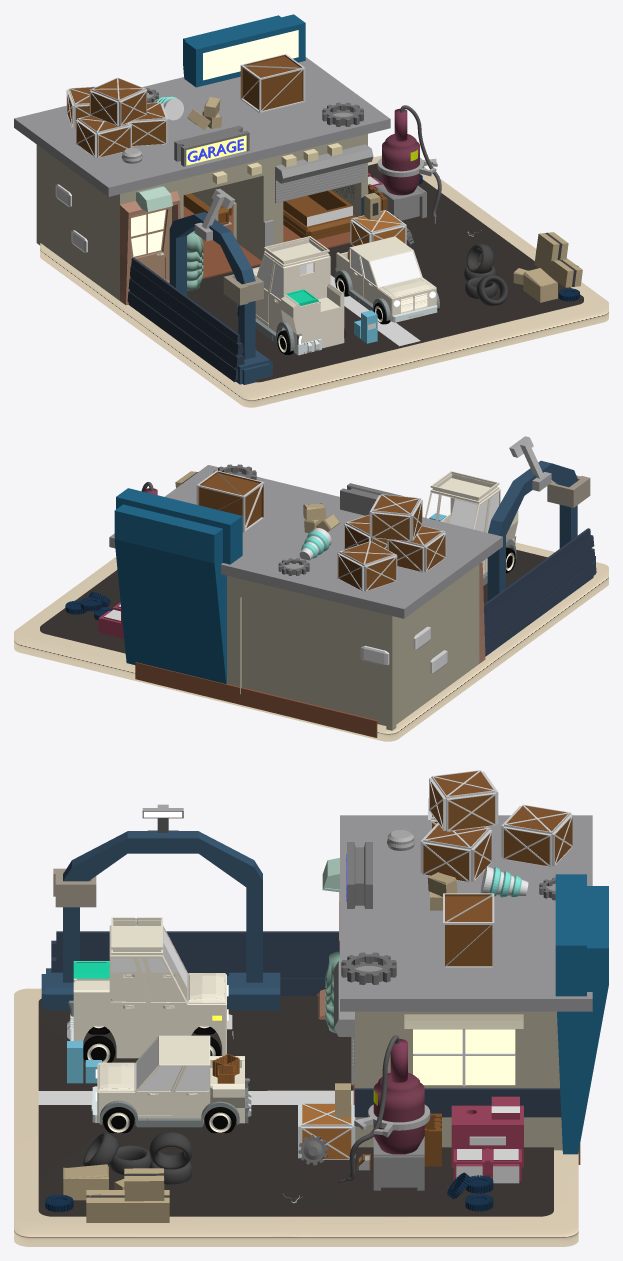
3 views of the same model, one above another, from view 1: azimuth 30°, elevation 25°; view 2: azimuth 150°, elevation 25°; view 3: azimuth 270°, elevation 25° (orthographic). The views are drawn at different scales.
Visible parts, largest first — view 1: Cube.035, Cube.033, Cube.034, Cube.032, Cube.081, Cube.015, Cube.052, Cube, Cube.072, Cube.094, Cube.057, Cube.086 (+33 smaller); view 2: Cube.034, Cube.072, Cube.035, Cube.032, Cube.081, Cube.056, Cube.052, Cube.033, Cube.086, Cube.057, Cube.089, Cube.091 (+17 smaller); view 3: Cube.033, Cube.035, Cube.032, Cube.015, Cube.072, Cube.034, Cube.052, Cube.081, Cube, Cube.094, Cube.059, Cube.086 (+30 smaller).
Part boxes in pixels (box(x1,y1,x2,y2)): Cube.035: box(14, 57, 390, 196); Cube.033: box(187, 163, 583, 382); Cube.034: box(36, 134, 367, 300); Cube.032: box(40, 155, 608, 407); Cube.081: box(127, 257, 244, 382); Cube.015: box(252, 243, 344, 354); Cube.052: box(169, 212, 272, 384); Cube: box(336, 236, 436, 321); Cube.072: box(183, 14, 305, 87); Cube.094: box(187, 97, 582, 302); Cube.057: box(241, 55, 303, 110); Cube.086: box(66, 77, 168, 157); Cube.034: box(227, 564, 479, 730); Cube.072: box(114, 488, 242, 683); Cube.035: box(109, 465, 502, 618); Cube.032: box(14, 542, 608, 741); Cube.081: box(484, 528, 596, 656); Cube.056: box(135, 662, 377, 737); Cube.052: box(487, 460, 595, 600); Cube.033: box(40, 550, 547, 653); Cube.086: box(337, 494, 446, 591); Cube.057: box(198, 471, 263, 527); Cube.089: box(338, 542, 395, 590); Cube.091: box(372, 495, 421, 540); Cube.033: box(38, 996, 553, 1216); Cube.035: box(340, 815, 592, 1011); Cube.032: box(14, 988, 578, 1246); Cube.015: box(73, 925, 226, 1058); Cube.072: box(555, 874, 608, 1154); Cube.034: box(355, 1011, 562, 1150); Cube.052: box(41, 831, 280, 1010); Cube.081: box(51, 931, 339, 995); Cube: box(97, 1035, 244, 1123); Cube.094: box(63, 872, 457, 1222); Cube.059: box(413, 1029, 515, 1084); Cube.086: box(420, 770, 573, 882).
Size of the model in its own units: 23.1 by 10.96 by 23.29.
